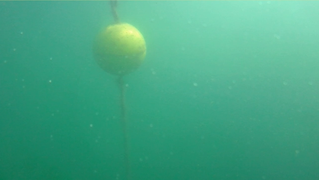buoy: (93, 22, 147, 75)
